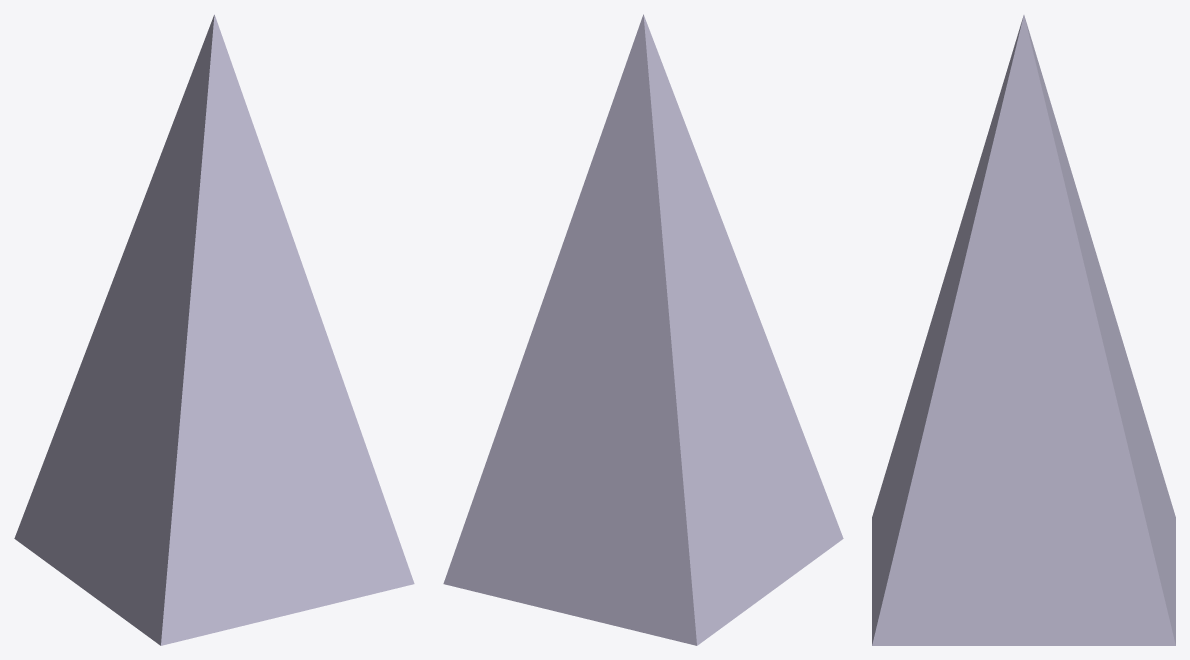
File: BossAttackCollider.fbx
3 views of the same model, side by side, from view 1: azimuth 30°, elevation 25°; view 2: azimuth 150°, elevation 25°; view 3: azimuth 270°, elevation 25° (orthographic). The views are drawn at different scales.
Visible parts, largest first — view 1: BossAttackColliderMesh; view 2: BossAttackColliderMesh; view 3: BossAttackColliderMesh.
Part boxes in pixels (x1=…): BossAttackColliderMesh: x1=14, y1=14, x2=414, y2=645; BossAttackColliderMesh: x1=443, y1=14, x2=843, y2=645; BossAttackColliderMesh: x1=872, y1=15, x2=1175, y2=645.
Size of the model in its own units: 97.03 by 200 by 97.03.
